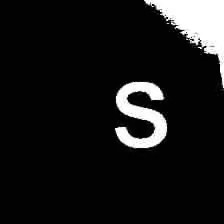LTR_S: (111, 74, 167, 150)
